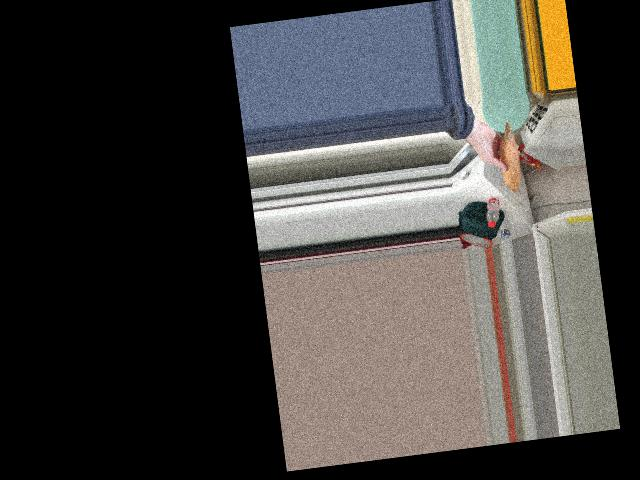sweet_potato: (498, 129, 522, 191)
